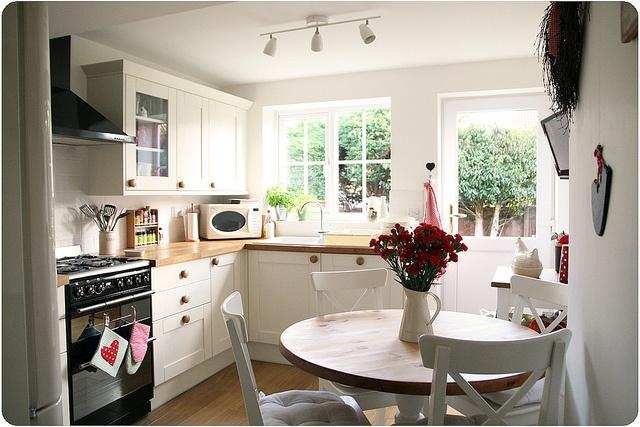Kursi: (220, 289, 374, 426), (417, 326, 573, 426)
Lemari: (79, 57, 253, 196)
Meja: (277, 306, 550, 403)
